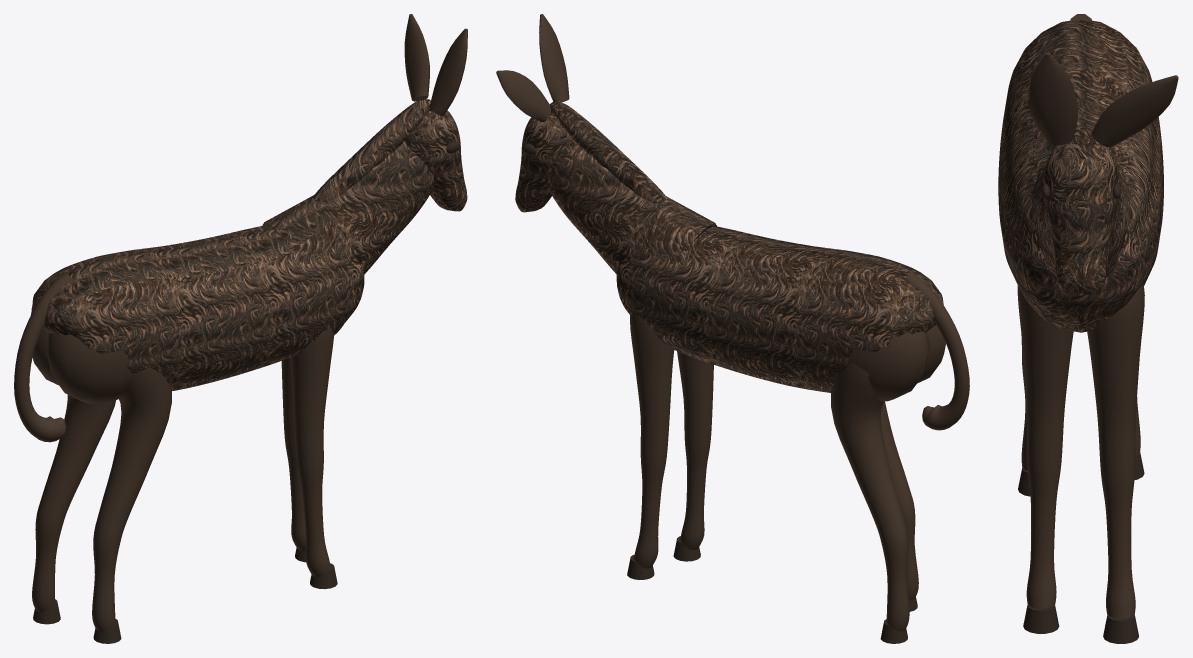
Rendered from platero_moguer.glb.
3 renders of one model, left to right at view 1: azimuth 30°, elevation 25°; view 2: azimuth 150°, elevation 25°; view 3: azimuth 270°, elevation 25°, orthographic. The views are drawn at different scales.
Visible parts, largest first — view 1: Platero_Bronce_Pelaje, Platero_Bronce_Liso, Platero_Bronce_Oscuro; view 2: Platero_Bronce_Pelaje, Platero_Bronce_Liso, Platero_Bronce_Oscuro; view 3: Platero_Bronce_Pelaje, Platero_Bronce_Liso, Platero_Bronce_Oscuro.
Boxes of the visible parts, left/top/right/bottom form: Platero_Bronce_Pelaje: left=31, top=98, right=467, bottom=390; Platero_Bronce_Liso: left=14, top=14, right=467, bottom=631; Platero_Bronce_Oscuro: left=33, top=141, right=459, bottom=643; Platero_Bronce_Pelaje: left=515, top=101, right=943, bottom=392; Platero_Bronce_Liso: left=496, top=14, right=969, bottom=631; Platero_Bronce_Oscuro: left=523, top=143, right=917, bottom=643; Platero_Bronce_Pelaje: left=998, top=20, right=1163, bottom=332; Platero_Bronce_Liso: left=1017, top=14, right=1178, bottom=618; Platero_Bronce_Oscuro: left=1018, top=182, right=1144, bottom=643.
Size of the model in its own units: 1.26 by 1.38 by 0.3388.
3 materials, 1 textured.
